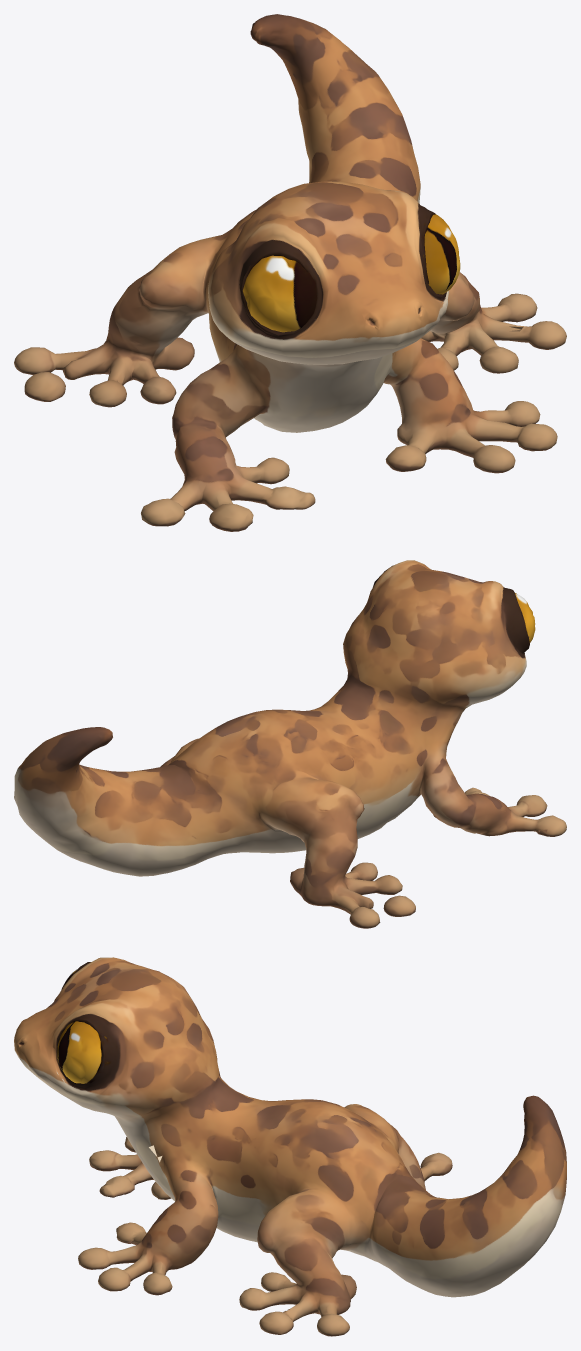
The model's file is Pok50. Lisa de duna.glb.
3 renders of one model, top to bottom at view 1: azimuth 30°, elevation 25°; view 2: azimuth 150°, elevation 25°; view 3: azimuth 270°, elevation 25°, orthographic. The views are drawn at different scales.
Visible parts, largest first — view 1: geometry_0; view 2: geometry_0; view 3: geometry_0.
Part boxes in pixels (box(x1,y1,x2,y2)): geometry_0: box(14, 14, 566, 531); geometry_0: box(14, 560, 566, 928); geometry_0: box(14, 957, 566, 1336).
Bounding box in the file's own units: 0.8047 × 0.4468 × 0.9487.
1 material, 1 textured.
